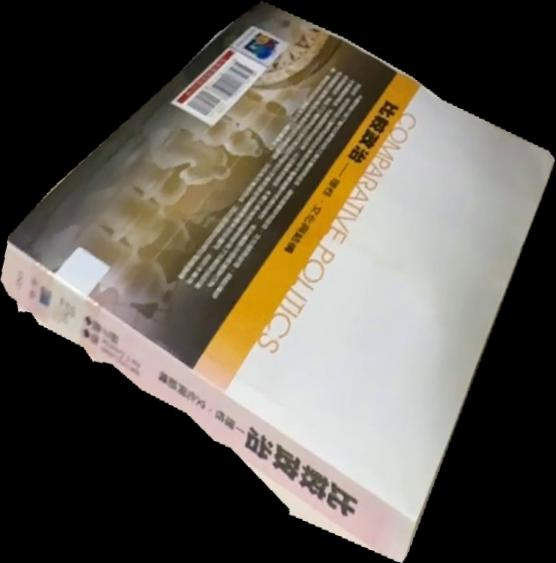flat: (1, 1, 556, 563)
